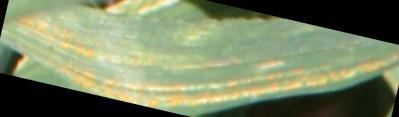Wheat: (15, 17, 130, 99)
